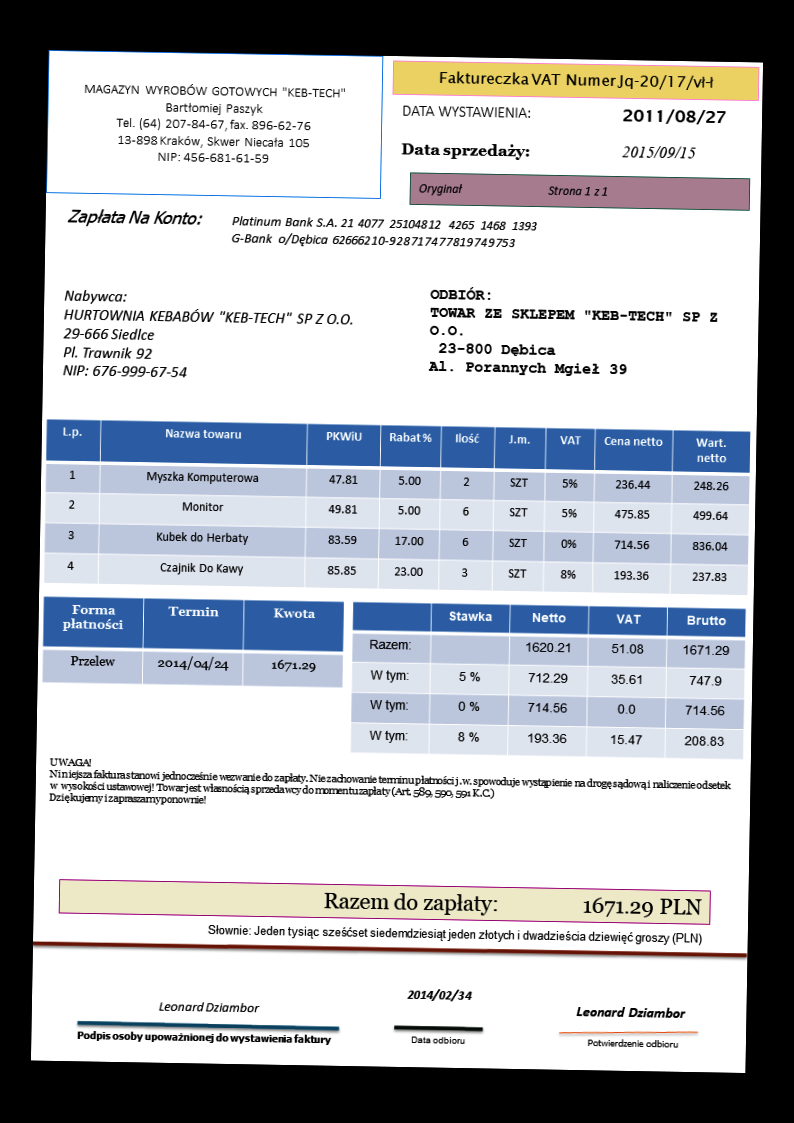Table: (43, 417, 751, 597), (349, 601, 747, 761), (41, 594, 345, 690)
TextBox: (46, 755, 734, 818), (425, 283, 723, 381), (59, 286, 354, 384), (80, 79, 349, 169), (206, 920, 702, 949), (322, 887, 704, 922), (229, 212, 541, 253), (436, 68, 714, 92), (74, 1026, 334, 1048), (417, 182, 608, 201), (65, 206, 203, 230), (399, 140, 533, 162), (399, 101, 532, 122), (621, 107, 727, 129), (573, 1003, 685, 1021), (156, 998, 262, 1016), (621, 143, 697, 162), (586, 1037, 679, 1050), (406, 986, 473, 1003), (407, 1032, 466, 1047)
